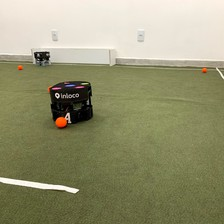ball: (54, 116, 69, 130), (200, 65, 208, 74), (17, 63, 25, 71)
goal: (29, 45, 117, 66)
robot: (46, 78, 94, 125), (33, 50, 51, 68)
